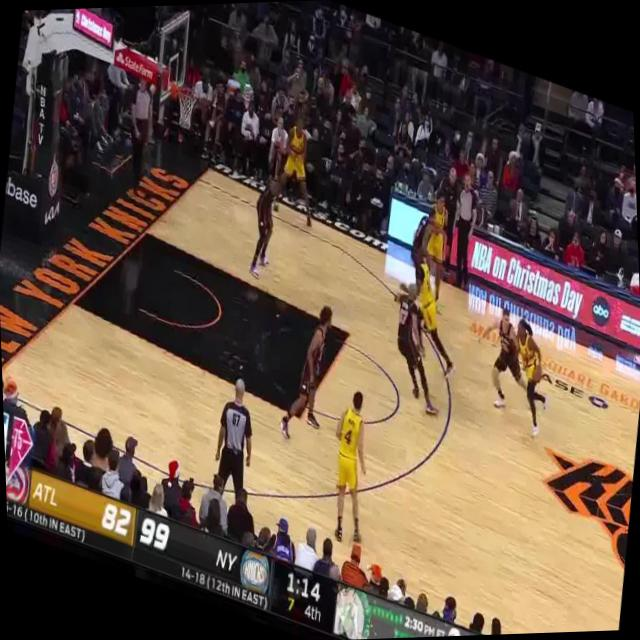ball-handler: (502, 308, 562, 438)
